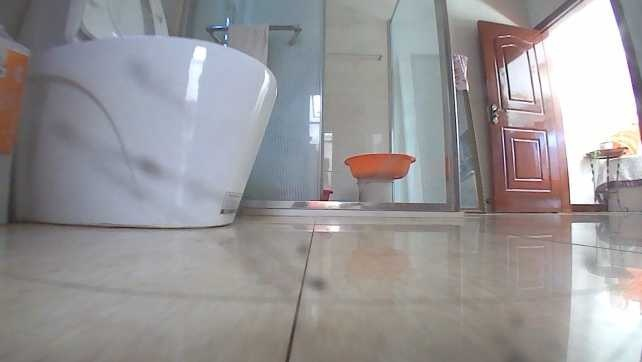door_anno: (473, 17, 571, 212)
toilet: (12, 0, 285, 230)
